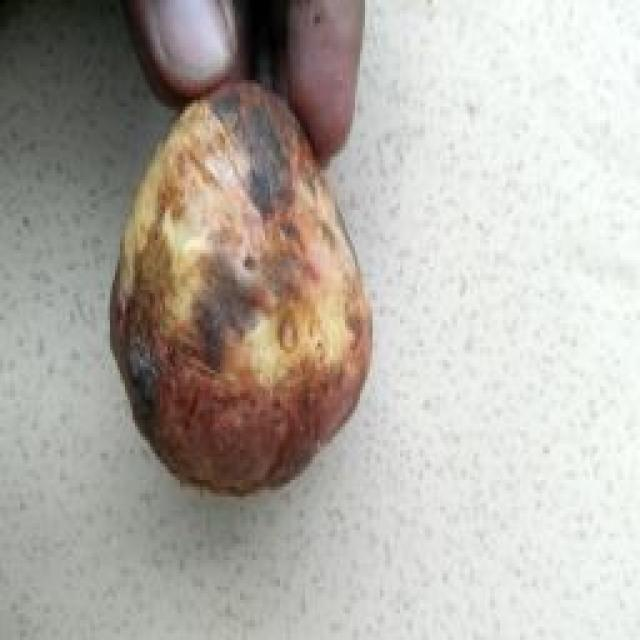Bad_Guava: (111, 83, 371, 492)
